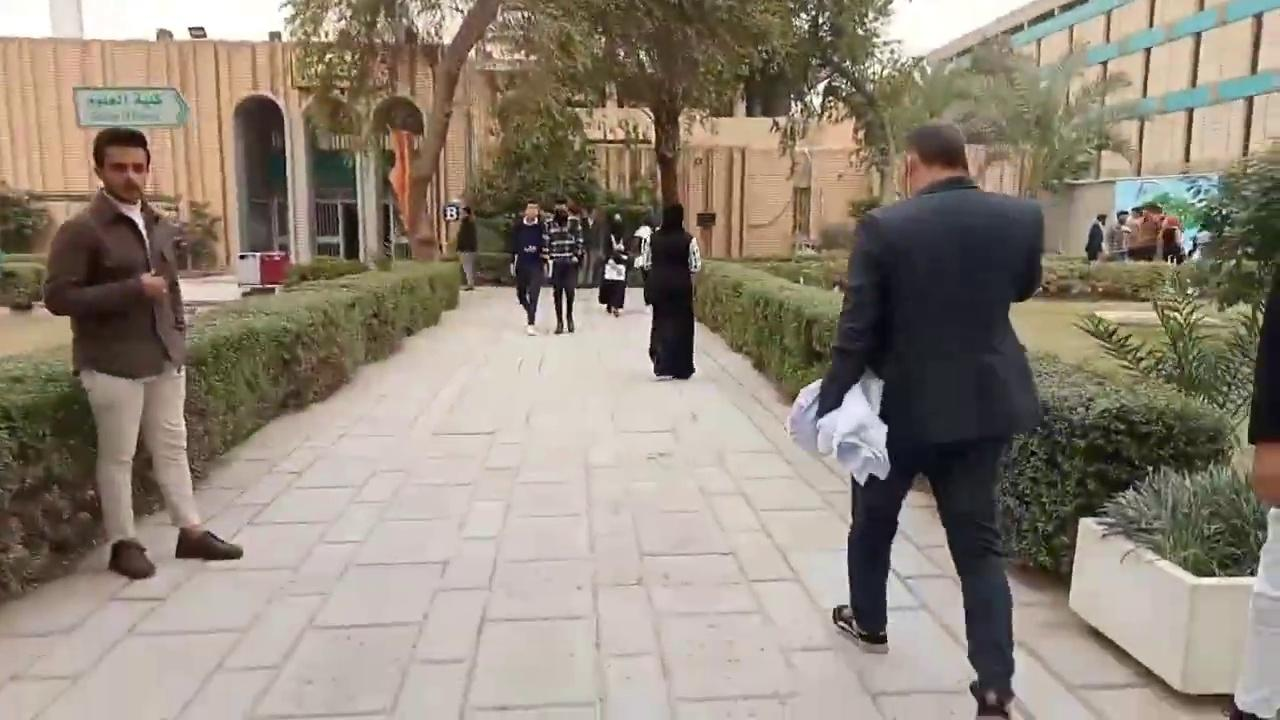person: (814, 121, 1046, 718), (42, 126, 244, 579), (1224, 265, 1279, 719), (643, 203, 701, 379), (541, 201, 585, 334), (508, 200, 549, 336), (455, 206, 477, 290)
tree: (279, 0, 905, 266), (1, 253, 460, 599), (748, 1, 1149, 217), (510, 0, 799, 228), (279, 0, 501, 263), (993, 348, 1233, 581), (1066, 460, 1268, 697), (743, 0, 920, 205), (1071, 263, 1259, 452), (815, 40, 1031, 202), (948, 34, 1142, 199), (1134, 147, 1279, 323), (468, 74, 610, 222), (0, 180, 49, 255), (173, 197, 222, 270)
